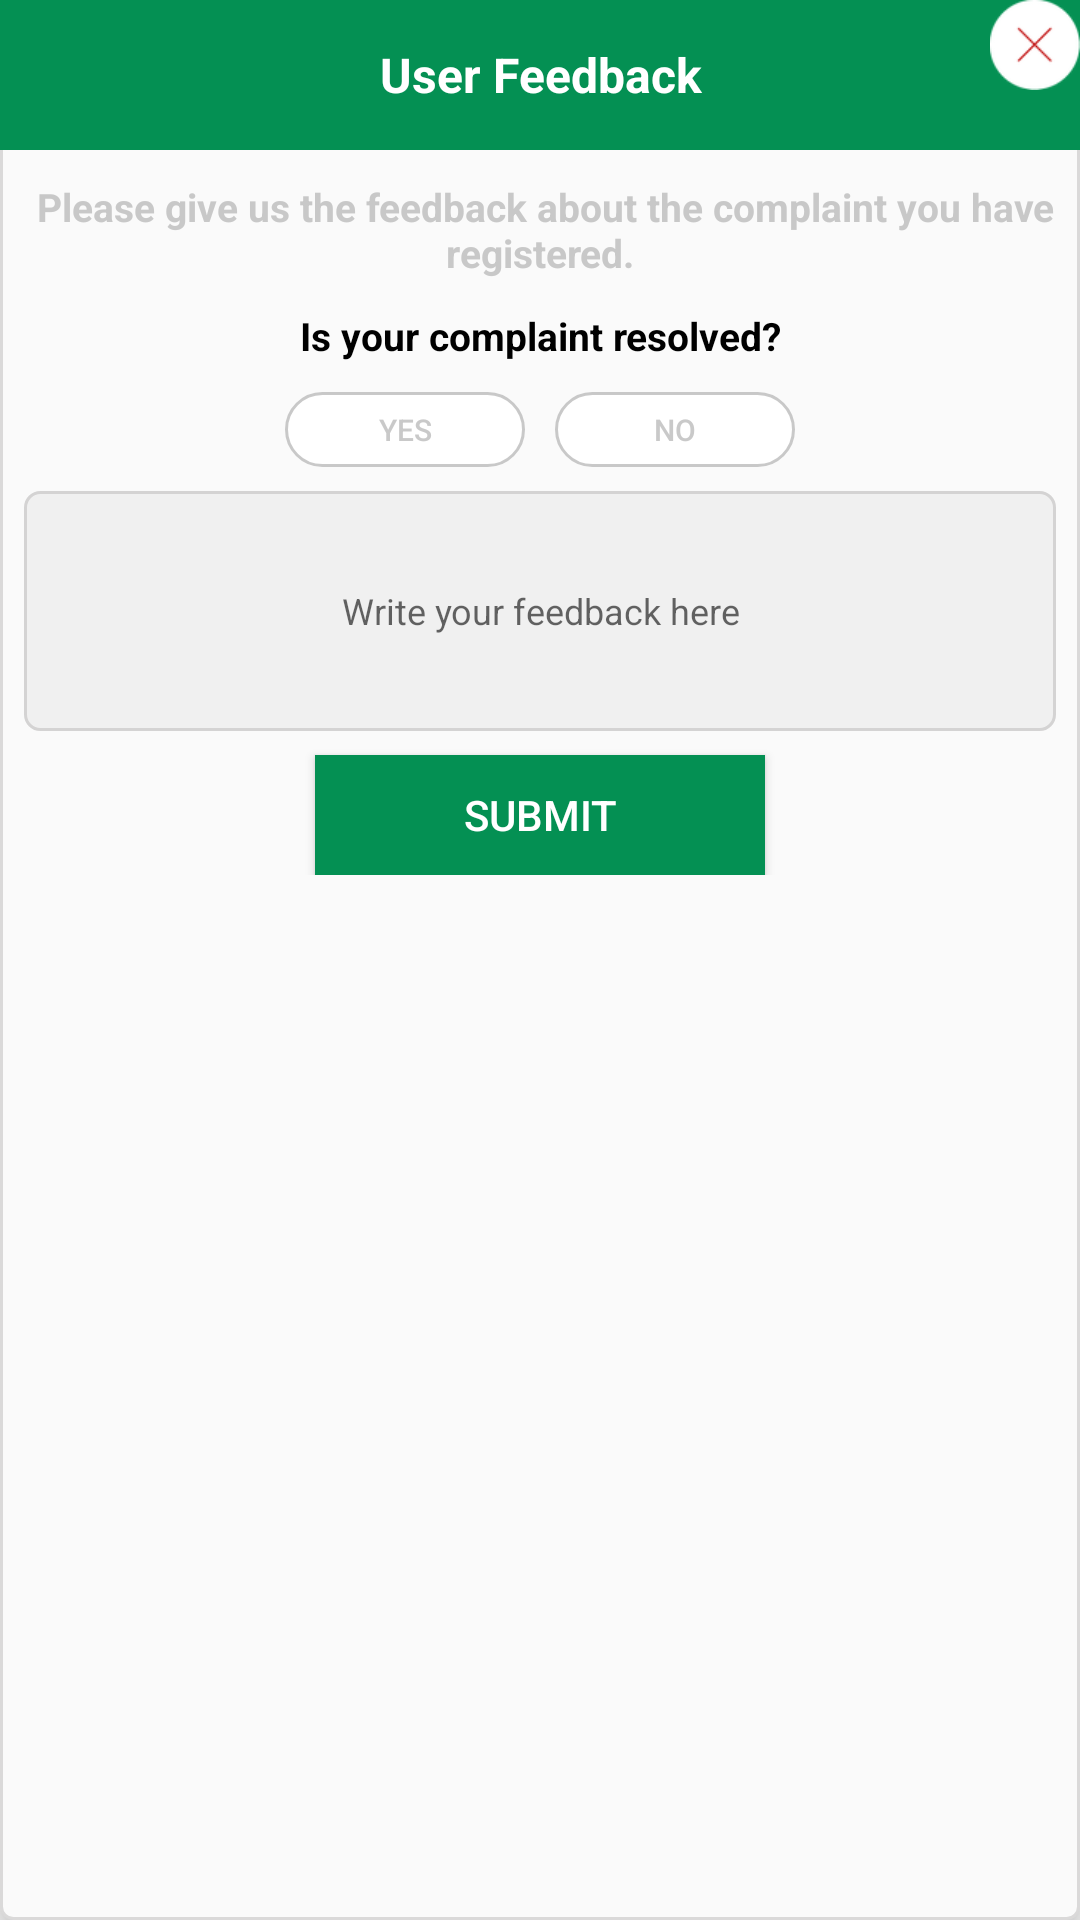

Screen size 1080*1920. Icon name, then its center in pixels as (x,y):
cancel: (1035,45)
